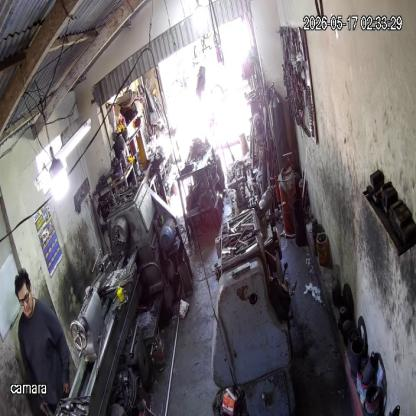lentes: (17, 289, 33, 308)
